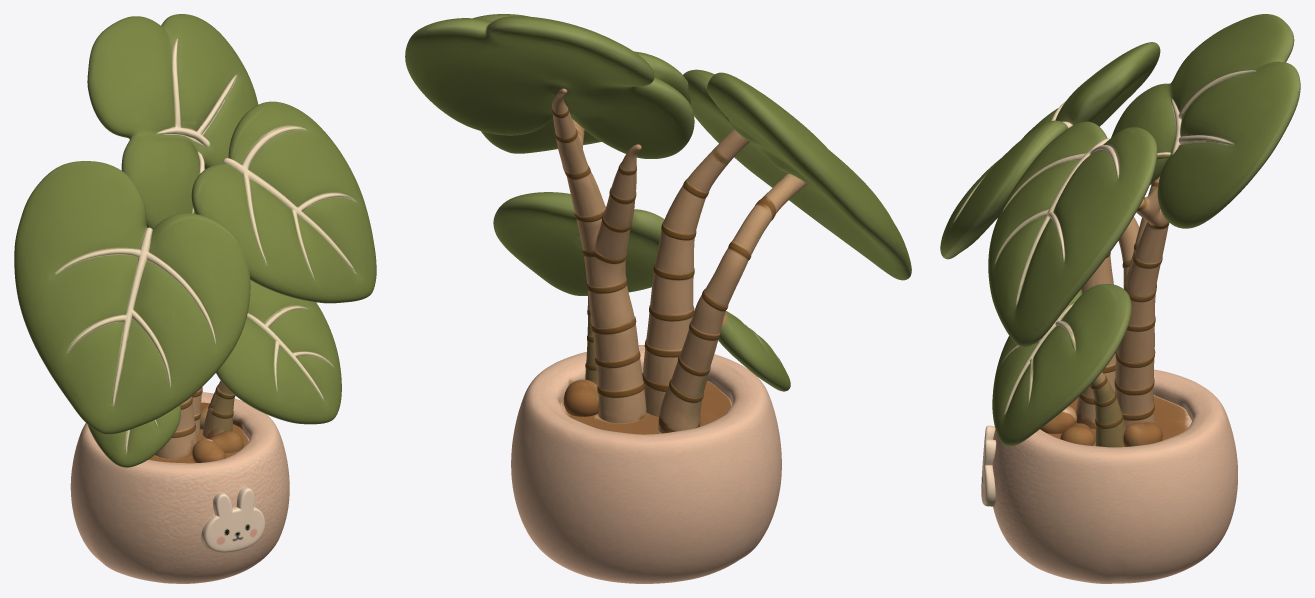
Rendered from plant.glb.
The picture shows the model from 3 angles, left to right: view 1: azimuth 30°, elevation 25°; view 2: azimuth 150°, elevation 25°; view 3: azimuth 270°, elevation 25°; orthographic projection. The views are drawn at different scales.
Bounding box in the file's own units: 1.43 × 1.9 × 1.16.
Materials: 1 (1 with a texture image).
